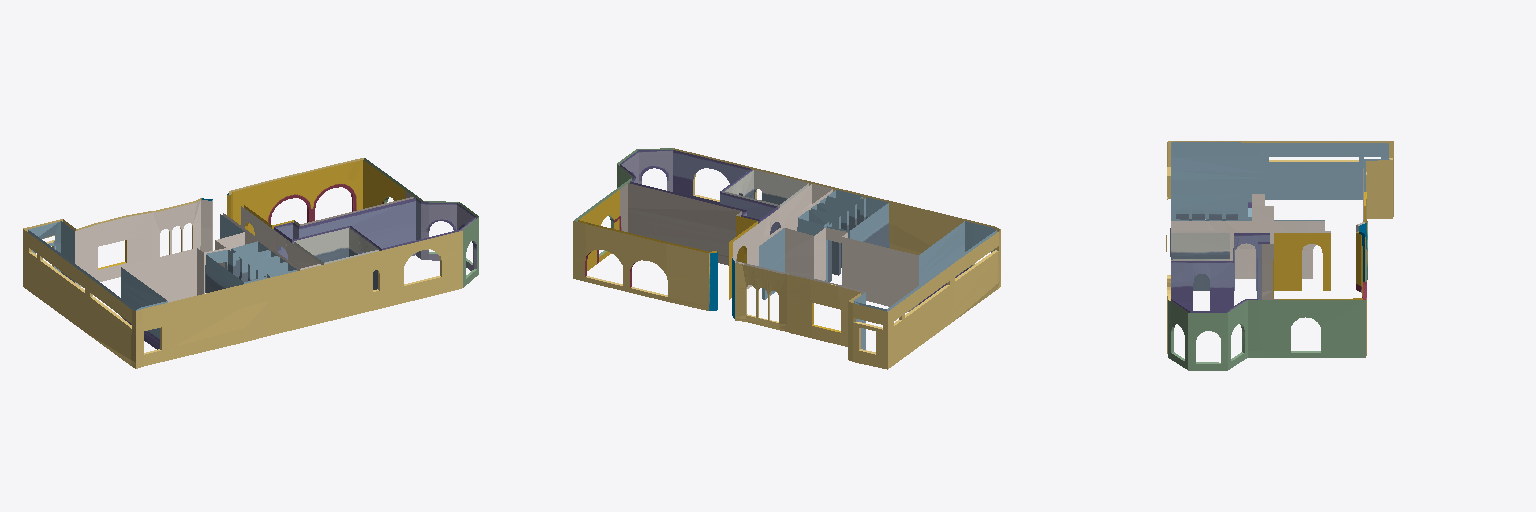
3 renders of one model, left to right at view 1: azimuth 30°, elevation 25°; view 2: azimuth 150°, elevation 25°; view 3: azimuth 270°, elevation 25°, orthographic.
Parts seen in each view (by area): view 1: polySurface318; view 2: polySurface318; view 3: polySurface318.
Part boxes in pixels (left/top/right/bottom): polySurface318: left=23, top=158, right=478, bottom=368; polySurface318: left=573, top=148, right=1000, bottom=369; polySurface318: left=1166, top=141, right=1393, bottom=370.
Bounding box in the file's own units: 1599 × 258 × 886.
1 materials, 1 textured.